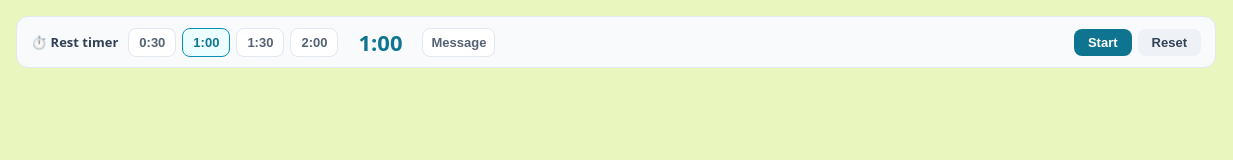
Test: RestTimer auto start › starts counting down from the current preset when a set is logged
The image size is (1233, 160).
Click the button "1:30": (260, 42) [236,28,284,56]
Wait 2000 ms
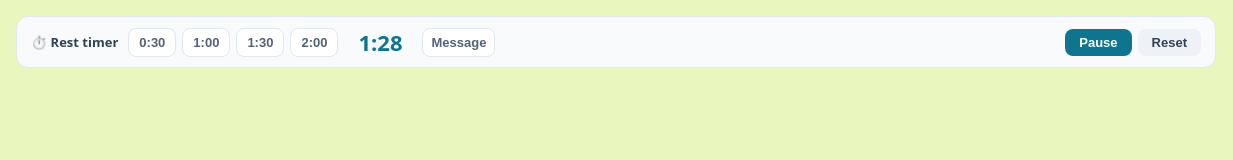
Now the button "Pause" is shown, box [1065,28,1132,56]
Now the text with test id "rest-time" reads "1:28", box [358,27,402,57]
